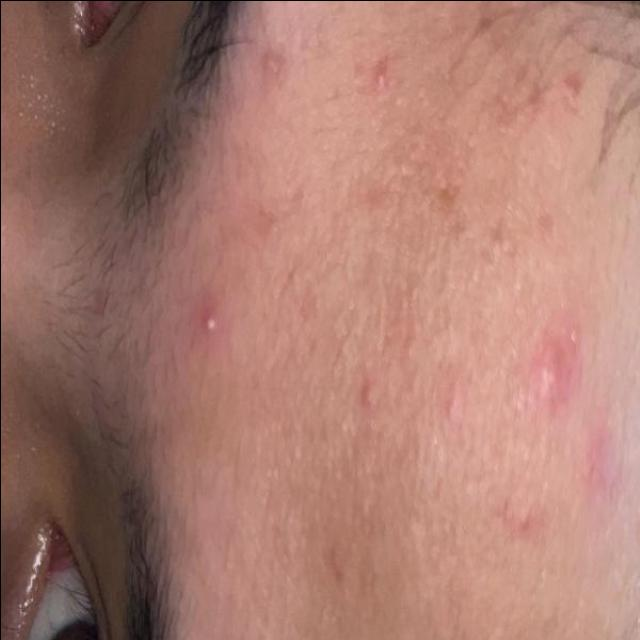papule: (470, 282, 636, 581)
pustule: (364, 55, 403, 97), (195, 304, 221, 349)
